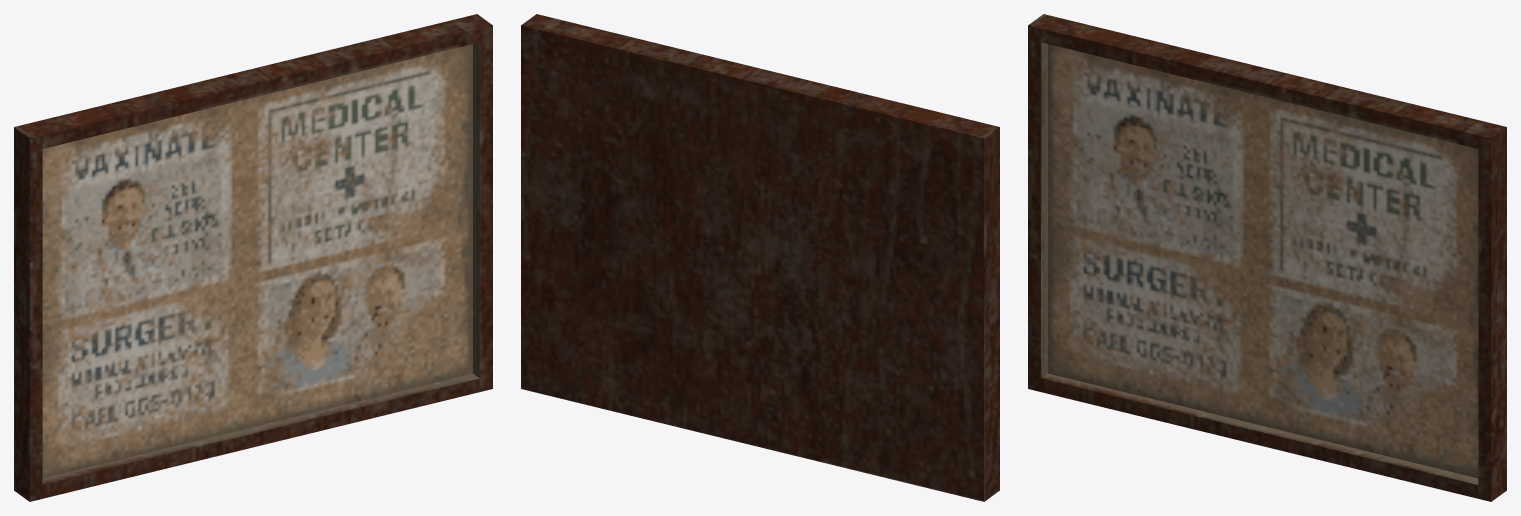
The model's file is information_board.fbx.
3 views of the same model, side by side, from view 1: azimuth 30°, elevation 25°; view 2: azimuth 150°, elevation 25°; view 3: azimuth 330°, elevation 25° (orthographic).
Visible parts, largest first — view 1: information_board; view 2: information_board; view 3: information_board.
Part boxes in pixels (x1=…): information_board: x1=14, y1=14, x2=492, y2=501; information_board: x1=521, y1=14, x2=999, y2=501; information_board: x1=1028, y1=14, x2=1506, y2=501.
Size of the model in its own units: 120 by 90 by 7.
Materials: 1 (1 with a texture image).
